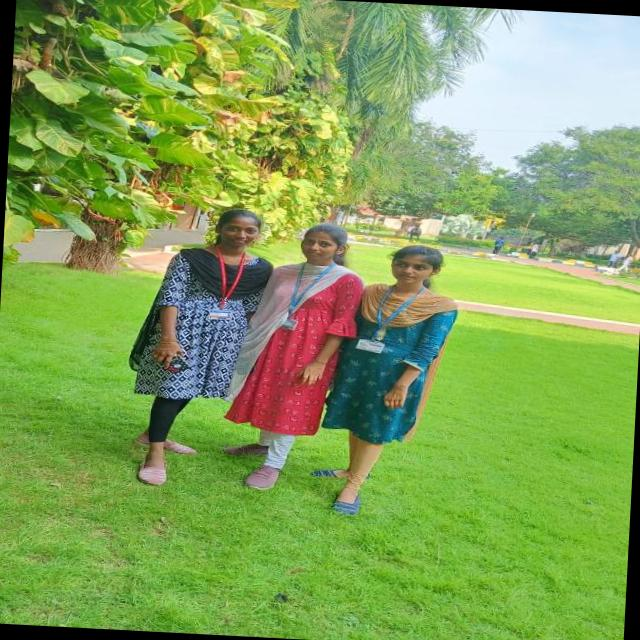id_card: (356, 277, 424, 355), (280, 258, 332, 332), (214, 248, 242, 325)
